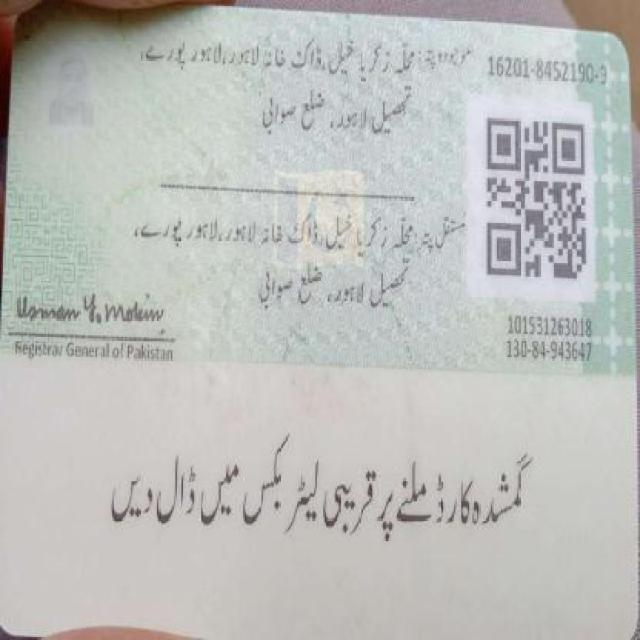Back: (8, 14, 630, 623)
